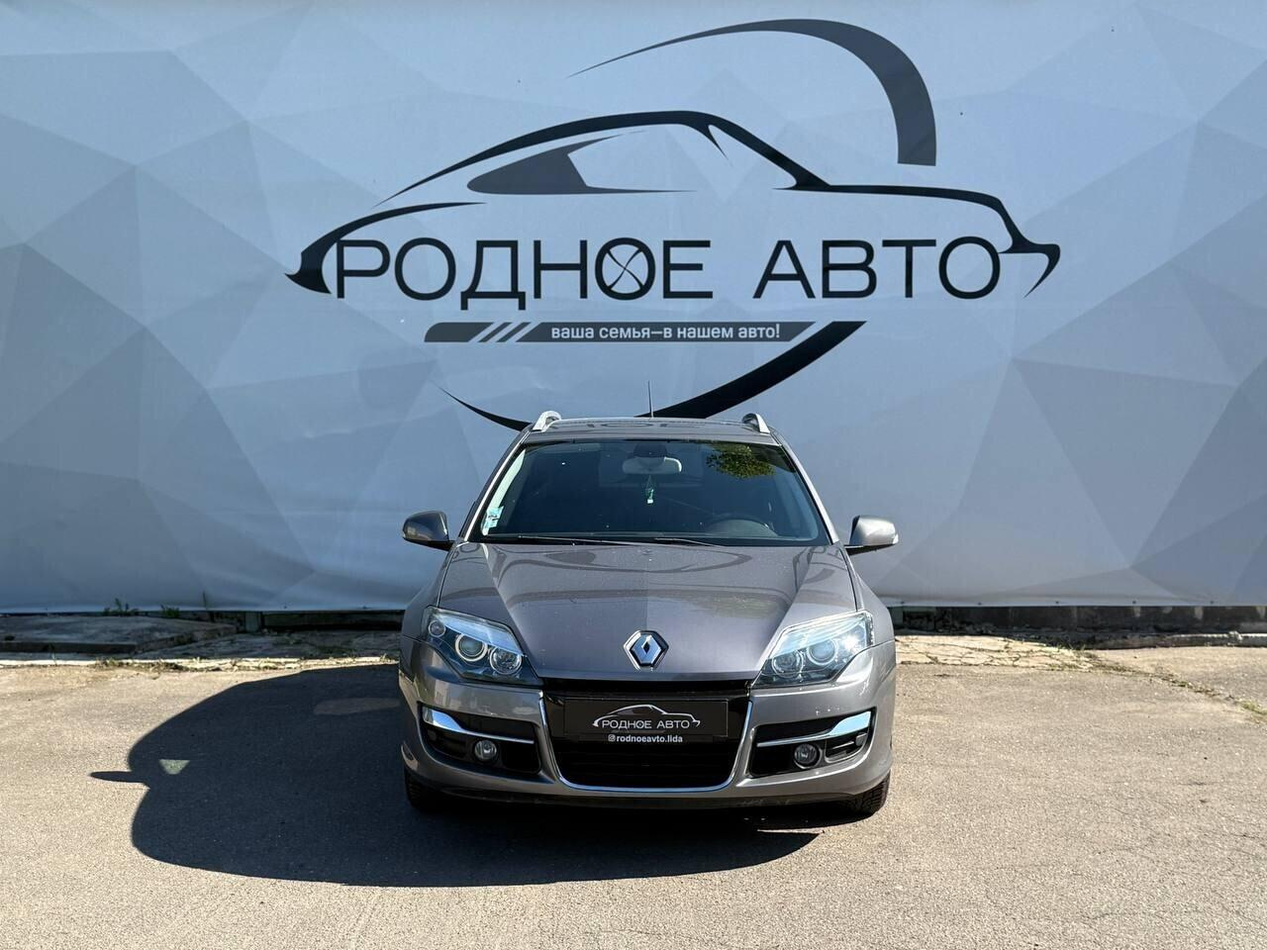Laguna_2010-2015: (391, 413, 903, 826)
